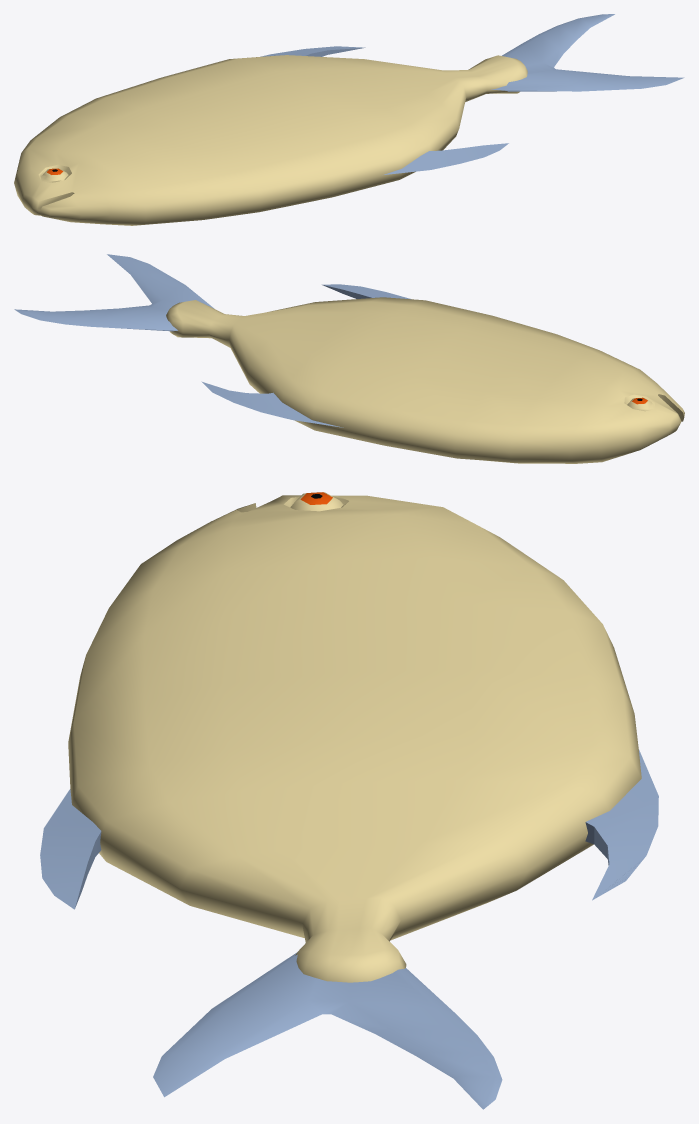
The model's file is Pescado gordo.fbx.
3 views of the same model, one above another, from view 1: azimuth 30°, elevation 25°; view 2: azimuth 150°, elevation 25°; view 3: azimuth 270°, elevation 25° (orthographic). The views are drawn at different scales.
Visible parts, largest first — view 1: PESCADO gordo; view 2: PESCADO gordo; view 3: PESCADO gordo.
Boxes of the visible parts, left/top/right/bottom form: PESCADO gordo: left=14, top=14, right=684, bottom=225; PESCADO gordo: left=14, top=254, right=684, bottom=463; PESCADO gordo: left=40, top=492, right=658, bottom=1109.
Bounding box in the file's own units: 25.62 × 2.24 × 11.14.
